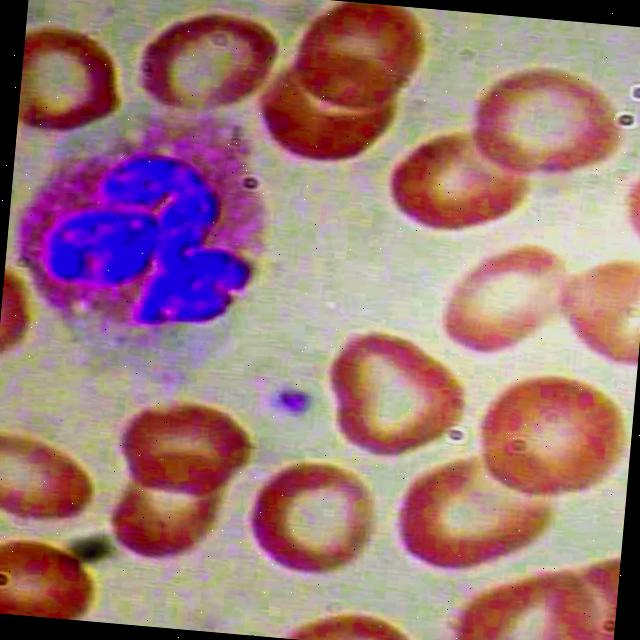RBC: (386, 435, 569, 585), (301, 320, 483, 470), (226, 448, 398, 588), (468, 367, 636, 508), (418, 229, 584, 368), (374, 118, 542, 248), (466, 60, 622, 184), (127, 0, 279, 127), (274, 0, 431, 120), (435, 549, 605, 640), (116, 394, 255, 504), (15, 15, 137, 140), (98, 460, 236, 570), (541, 239, 640, 373), (0, 423, 108, 533), (0, 525, 105, 622)
WBC: (5, 93, 294, 391)
